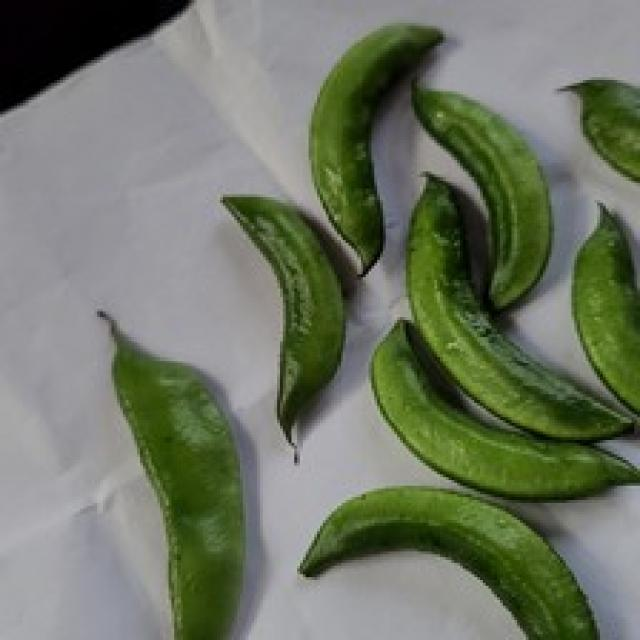Bean: (403, 168, 634, 443), (94, 306, 246, 637), (369, 314, 637, 500), (297, 483, 600, 637), (306, 20, 443, 274), (217, 192, 346, 457), (408, 77, 552, 312), (569, 200, 637, 434)
